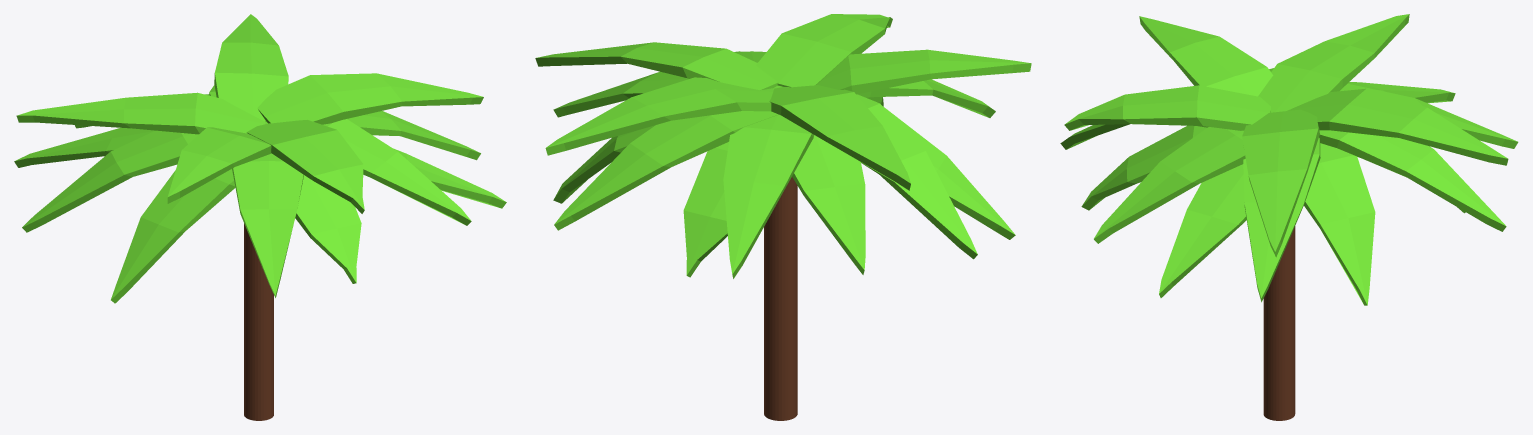
The model's file is PalmTree.fbx.
The picture shows the model from 3 angles, left to right: view 1: azimuth 30°, elevation 25°; view 2: azimuth 150°, elevation 25°; view 3: azimuth 270°, elevation 25°; orthographic projection. The views are drawn at different scales.
Parts seen in each view (by area): view 1: Cube.015, Cube.016, Cube.009, Cube.013, Cube.004, Cube.012, Cube.010, Cylinder, Cube.008, Cube.003, Cube.014, Cube.005 (+2 smaller); view 2: Cube.011, Cylinder, Cube.006, Cube.012, Cube.016, Cube.013, Cube.005, Cube.015, Cube.014, Cube.010, Cube, Cube.004 (+3 smaller); view 3: Cube.015, Cube.012, Cube.001, Cube.013, Cube.016, Cube.008, Cube.006, Cylinder, Cube.002, Cube.014, Cube.007, Cube.003 (+3 smaller).
Part boxes in pixels (x1,y1,x2,y2): Cube.015: (257, 73, 483, 124); Cube.016: (16, 92, 265, 134); Cube.009: (232, 153, 303, 297); Cube.013: (246, 120, 364, 213); Cube.004: (111, 169, 235, 303); Cube.012: (214, 14, 288, 121); Cube.010: (22, 130, 198, 232); Cylinder: (244, 223, 273, 420); Cube.008: (265, 119, 471, 225); Cube.003: (295, 175, 361, 283); Cube.014: (167, 127, 271, 203); Cube.005: (14, 127, 154, 167); Cube.011: (723, 114, 813, 278); Cylinder: (764, 177, 797, 420); Cube.006: (554, 111, 778, 230); Cube.012: (545, 77, 773, 155); Cube.016: (769, 85, 910, 190); Cube.013: (756, 14, 892, 87); Cube.005: (792, 135, 865, 274); Cube.015: (535, 42, 778, 90); Cube.014: (817, 49, 1031, 94); Cube.010: (856, 94, 977, 259); Cube: (683, 142, 728, 277); Cube.004: (884, 107, 1015, 239); Cube.015: (1242, 109, 1319, 257); Cube.012: (1287, 88, 1508, 165); Cube.001: (1304, 143, 1375, 305); Cube.013: (1064, 85, 1270, 130); Cube.016: (1258, 14, 1409, 112); Cube.008: (1094, 112, 1272, 243); Cube.006: (1319, 130, 1506, 231); Cylinder: (1263, 226, 1295, 420); Cube.002: (1159, 164, 1246, 297); Cube.014: (1139, 16, 1273, 96); Cube.007: (1243, 138, 1320, 302); Cube.003: (1081, 125, 1206, 210).
Size of the model in its own units: 1022 by 707 by 905.
